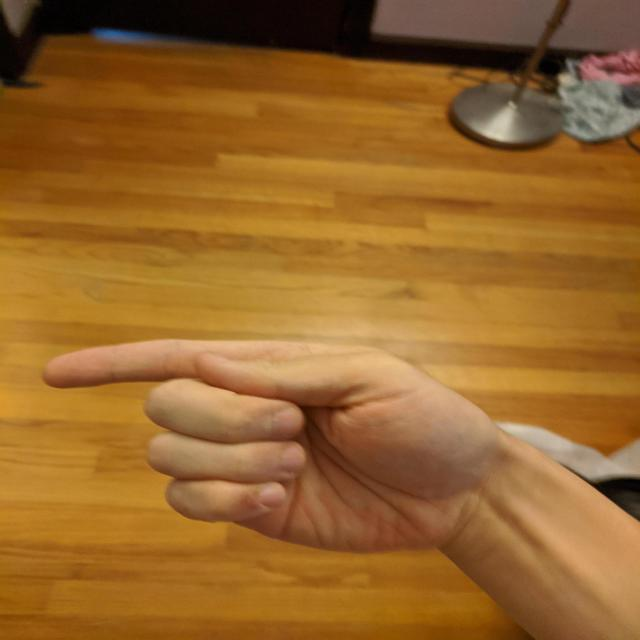G: (35, 334, 505, 561)
